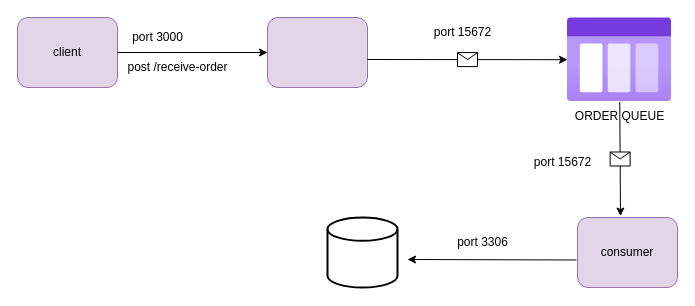
Some shapes in this 695 by 306 pixel diagram are drawn without their labels. The box of each missing label's shape, as (x1, y1, x2, y2) in pixels:
mysql: (326, 216, 398, 288)
producer + API Service: (266, 16, 368, 88)
